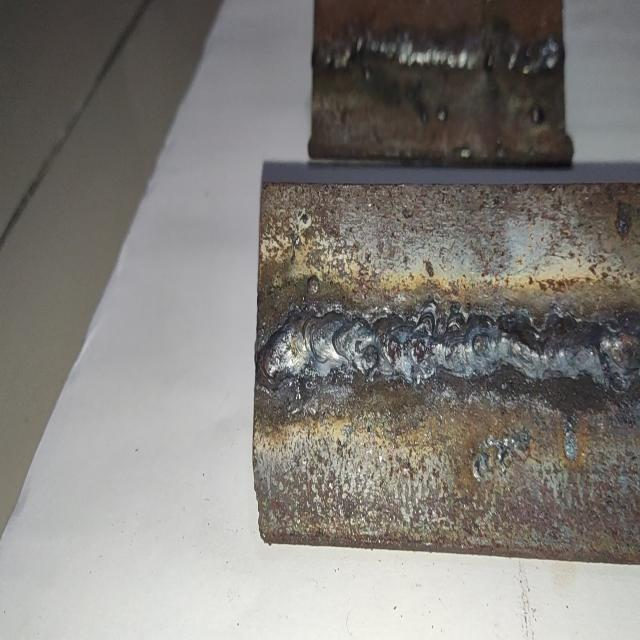Welding Line: (258, 311, 640, 393), (317, 38, 564, 72)
Workpiece: (247, 181, 640, 550), (308, 0, 570, 165)
